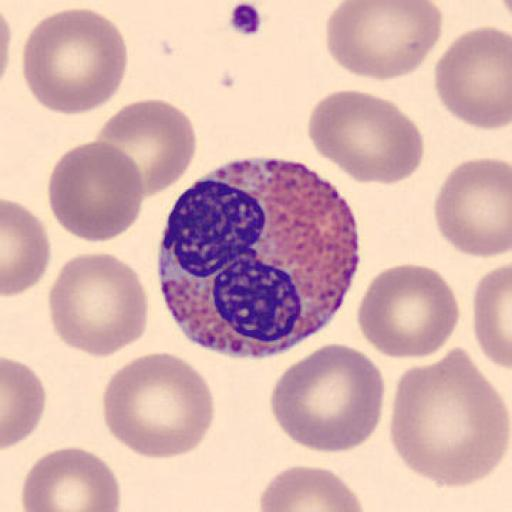RBC: (387, 347, 510, 491), (267, 342, 387, 455), (102, 350, 217, 460), (20, 6, 128, 116), (306, 88, 426, 186), (48, 251, 150, 358), (94, 96, 198, 200), (356, 262, 462, 362), (46, 140, 146, 244), (324, 0, 444, 82), (434, 25, 512, 132), (434, 154, 512, 259), (20, 444, 122, 512), (257, 464, 366, 512), (2, 196, 52, 298), (472, 260, 512, 373), (1, 354, 47, 450), (0, 4, 10, 99), (1, 6, 12, 91), (499, 0, 512, 38)
WBC: (157, 156, 364, 360)
